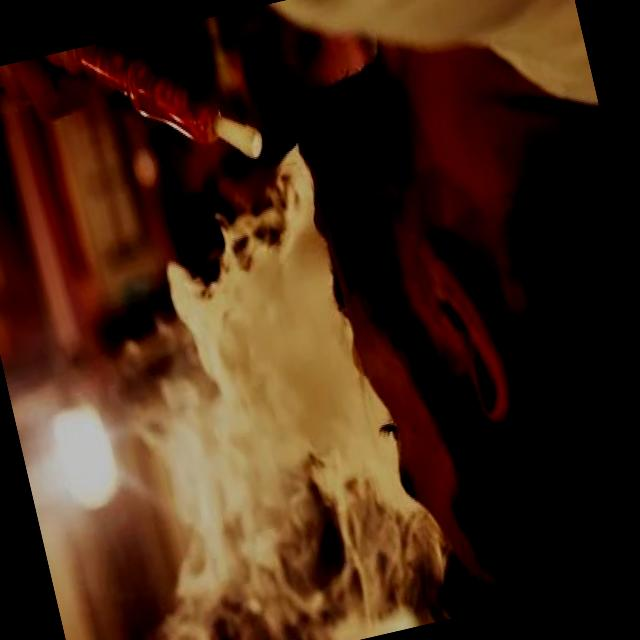cigarette: (38, 10, 272, 208)
